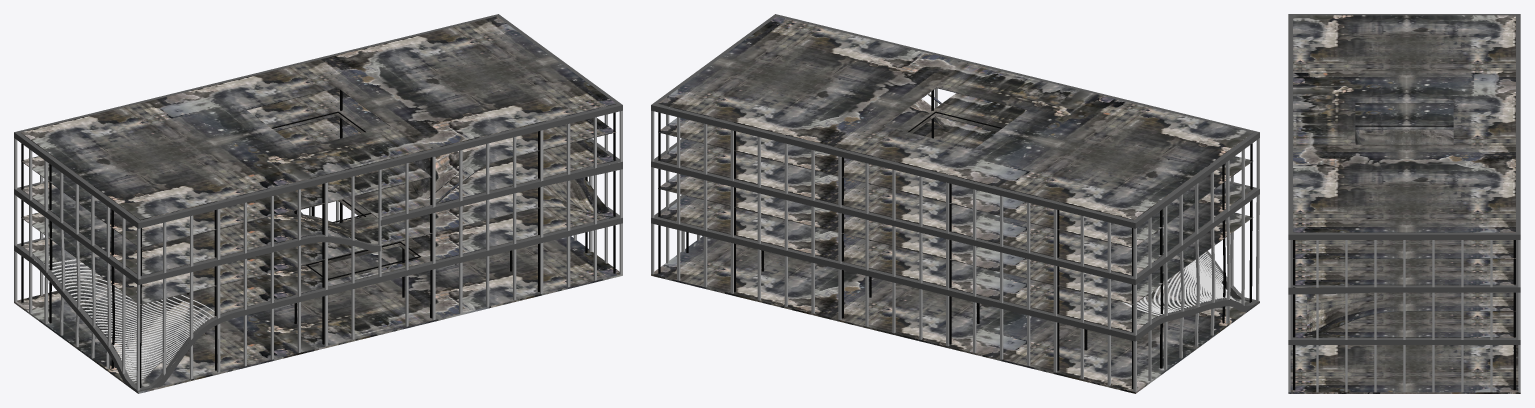
The model's file is DFWAM-SKATE-v1.glb.
The picture shows the model from 3 angles, left to right: view 1: azimuth 30°, elevation 25°; view 2: azimuth 150°, elevation 25°; view 3: azimuth 270°, elevation 25°; orthographic projection. The views are drawn at different scales.
Parts seen in each view (by area): view 1: FLOORS; view 2: FLOORS; view 3: FLOORS.
Boxes of the visible parts, x1,y1,x2,y2 form: FLOORS: (14, 14, 622, 393); FLOORS: (651, 14, 1259, 393); FLOORS: (1288, 14, 1520, 393).
Size of the model in its own units: 90 by 30.4 by 40.
Materials: 5 (1 with a texture image).
